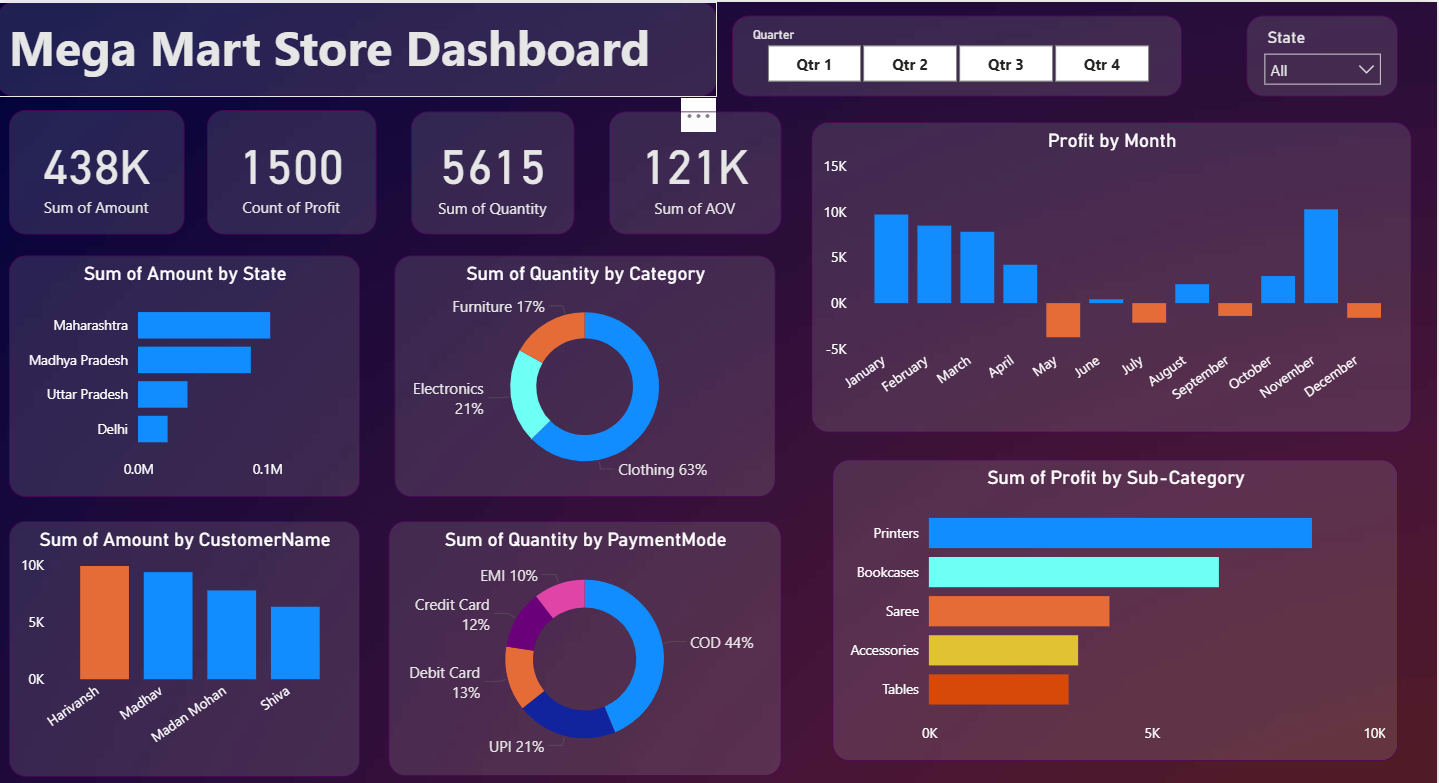

This screenshot's page, from the dashboard's own definition file:
{"tool":"powerbi","page":{"name":"Page 1","canvas":[1280,720],"ordinal":0},"visuals":[{"type":"columnChart","title":"Profit by Month","fields":{"Y":["Sum(Details.Profit)"],"Category":["Orders.Order Date.Variation.Date Hierarchy.Month"]},"box":[724,106.7,533.3,276],"z":0},{"type":"textbox","box":[0,0,640,84],"z":1000},{"type":"barChart","fields":{"Category":["Details.Sub-Category"],"Y":["Sum(Details.Profit)"]},"box":[742.7,406.7,502.7,268],"z":2000},{"type":"donutChart","fields":{"Y":["Sum(Details.Quantity)"],"Category":["Details.PaymentMode"]},"box":[348,461.3,349.3,226.7],"z":3000},{"type":"donutChart","fields":{"Category":["Details.Category"],"Y":["Sum(Details.Quantity)"]},"box":[353.3,225.3,338.7,214.7],"z":4000},{"type":"card","fields":{"Values":["Sum(Details.Amount)"]},"box":[10.7,96,156,110.7],"z":5000},{"type":"card","fields":{"Values":["CountNonNull(Details.Profit)"]},"box":[186.7,96,150.7,110.7],"z":6000},{"type":"card","fields":{"Values":["Sum(Details.Quantity)"]},"box":[368,97.3,145.3,109.3],"z":7000},{"type":"card","fields":{"Values":["Sum(Details.AOV)"]},"box":[544,97.3,153.3,109.3],"z":8000},{"type":"barChart","fields":{"Category":["Orders.State"],"Y":["Sum(Details.Amount)"]},"box":[10.7,225.3,312,214.7],"z":9000},{"type":"columnChart","fields":{"Category":["Orders.CustomerName"],"Y":["Sum(Details.Amount)"]},"box":[11,461,312,227],"z":10000},{"type":"slicer","fields":{"Values":["Orders.Order Date.Variation.Date Hierarchy.Quarter"]},"box":[653.3,12,400,72],"z":11000},{"type":"slicer","fields":{"Values":["Orders.State"]},"box":[1110.7,12,134.7,72],"z":12000}]}

Visuals, with their boxes on the page's 1280x720 design canvas (x1, y1, x2, y2). These are canvas units, not pixel positions in the 1439x783 screenshot, which may show the page scaled, cropped or inside an application window:
"Profit by Month" columnChart: [left=724, top=107, right=1257, bottom=383]
textbox: [left=0, top=0, right=640, bottom=84]
barChart - Details.Sub-Category x Sum(Details.Profit): [left=743, top=407, right=1245, bottom=675]
donutChart - Sum(Details.Quantity) x Details.PaymentMode: [left=348, top=461, right=697, bottom=688]
donutChart - Details.Category x Sum(Details.Quantity): [left=353, top=225, right=692, bottom=440]
card - Sum(Details.Amount): [left=11, top=96, right=167, bottom=207]
card - CountNonNull(Details.Profit): [left=187, top=96, right=337, bottom=207]
card - Sum(Details.Quantity): [left=368, top=97, right=513, bottom=207]
card - Sum(Details.AOV): [left=544, top=97, right=697, bottom=207]
barChart - Orders.State x Sum(Details.Amount): [left=11, top=225, right=323, bottom=440]
columnChart - Orders.CustomerName x Sum(Details.Amount): [left=11, top=461, right=323, bottom=688]
slicer - Orders.Order Date.Variation.Date Hierarchy.Quarter: [left=653, top=12, right=1053, bottom=84]
slicer - Orders.State: [left=1111, top=12, right=1245, bottom=84]
